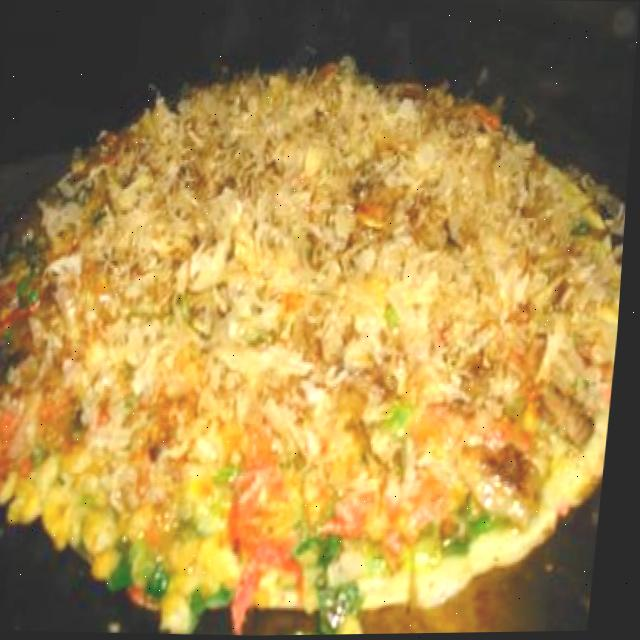蛋糕甜品: (0, 37, 638, 625)
